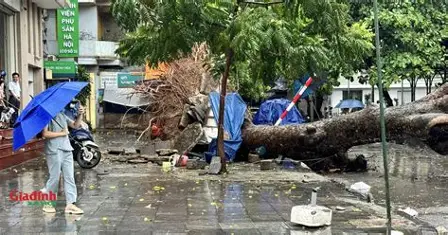ROAD_OBSTACLE: (110, 40, 448, 195)
